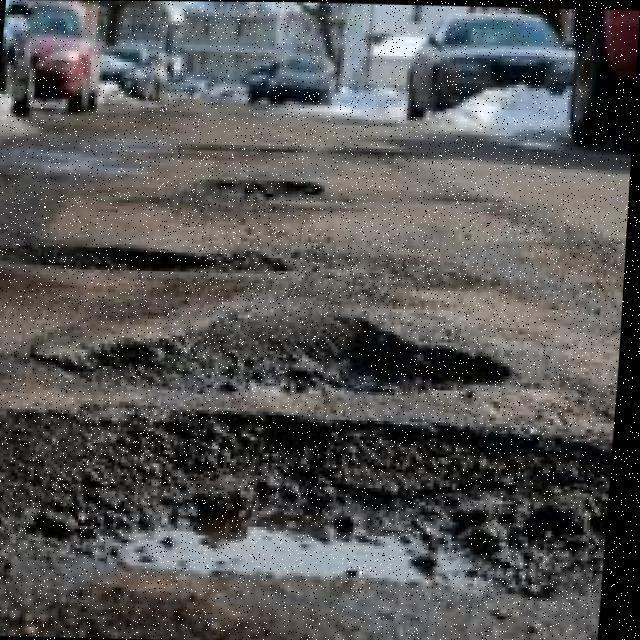Pothole: (0, 401, 612, 638), (0, 306, 512, 398), (111, 178, 324, 227), (0, 243, 295, 272)
